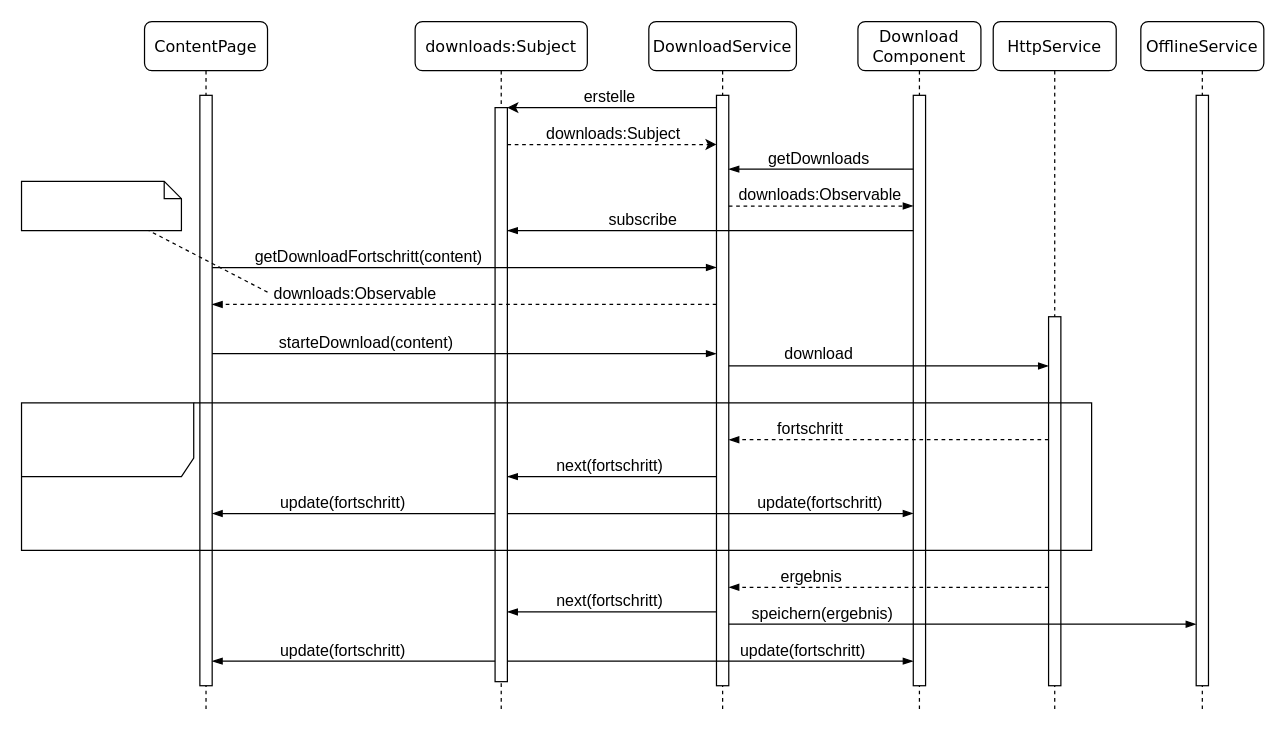
This 1285x732 diagram has some shape labels left out. Each missing label, with the centre of its shape:
"nur Fortschritte des einen Contents" belongs at (100,205).
"solange ein Fortschritt vom Service gesendet wird" belongs at (556,476).
